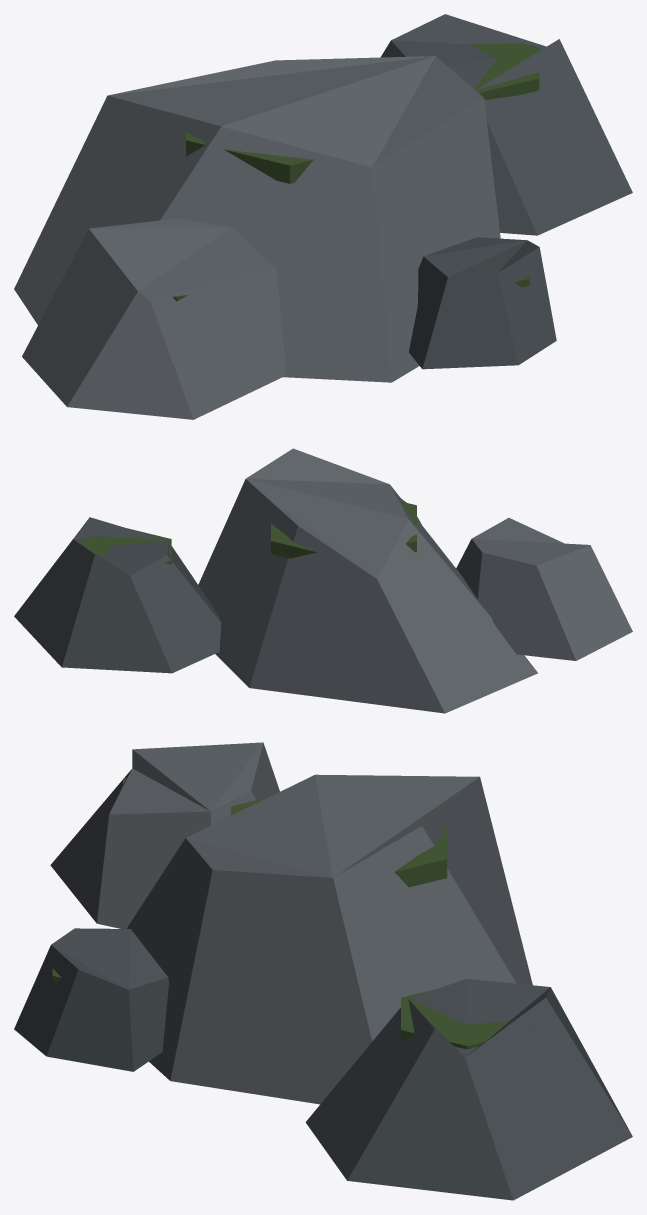
File: rock_cluster.glb
The picture shows the model from 3 angles, top to bottom: view 1: azimuth 30°, elevation 25°; view 2: azimuth 150°, elevation 25°; view 3: azimuth 270°, elevation 25°; orthographic projection. The views are drawn at different scales.
Visible parts, largest first — view 1: rock_cluster; view 2: rock_cluster; view 3: rock_cluster.
Boxes of the visible parts, bbox=[...] form: rock_cluster: bbox=[14, 14, 632, 419]; rock_cluster: bbox=[14, 448, 632, 713]; rock_cluster: bbox=[14, 742, 632, 1200].
Size of the model in its own units: 12.5 by 3.41 by 9.17.
